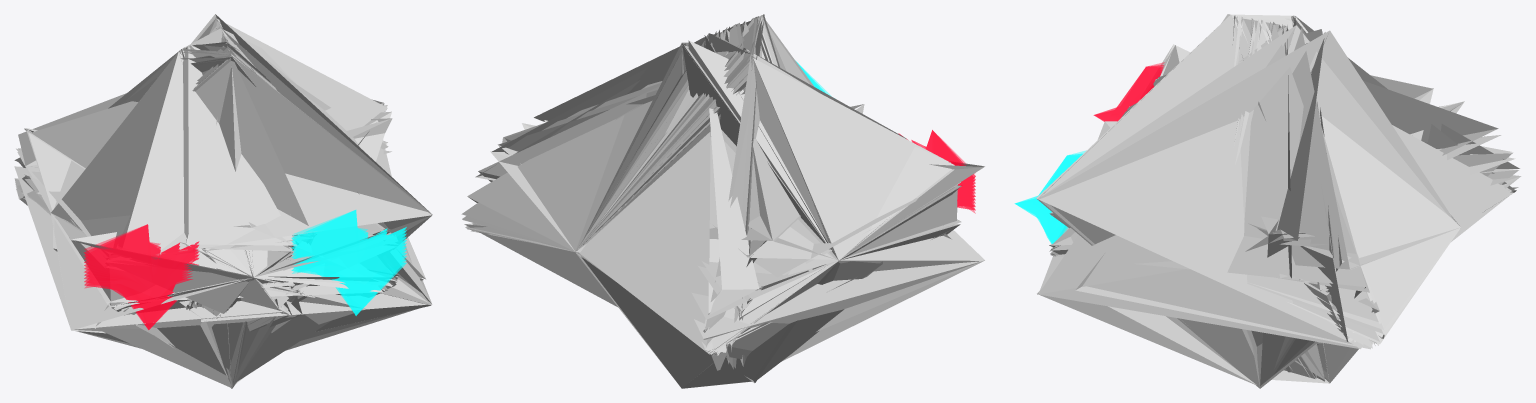
3 renders of one model, left to right at view 1: azimuth 30°, elevation 25°; view 2: azimuth 150°, elevation 25°; view 3: azimuth 270°, elevation 25°, orthographic. The views are drawn at different scales.
Parts seen in each view (by area): view 1: glasses1, magenta, cyan; view 2: glasses1, cyan; view 3: glasses1, magenta, cyan.
Part boxes in pixels (left/top/right/bottom): glasses1: left=14, top=14, right=432, bottom=388; magenta: left=291, top=210, right=406, bottom=315; cyan: left=84, top=224, right=199, bottom=329; glasses1: left=461, top=14, right=984, bottom=388; cyan: left=898, top=130, right=975, bottom=213; glasses1: left=1036, top=14, right=1521, bottom=388; magenta: left=1014, top=151, right=1085, bottom=243; cyan: left=1093, top=62, right=1164, bottom=121.
Size of the model in its own units: 6.43 by 5.05 by 6.58.
